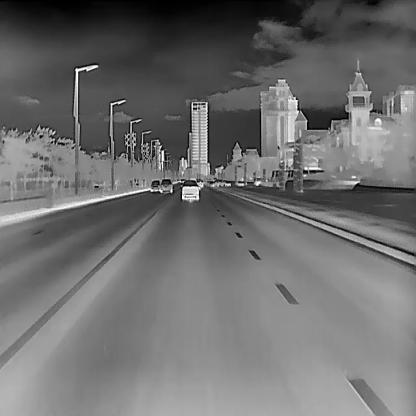car: (180, 180, 198, 200), (159, 178, 171, 192), (209, 178, 224, 188), (149, 180, 160, 192), (193, 177, 202, 189), (251, 177, 263, 185)
